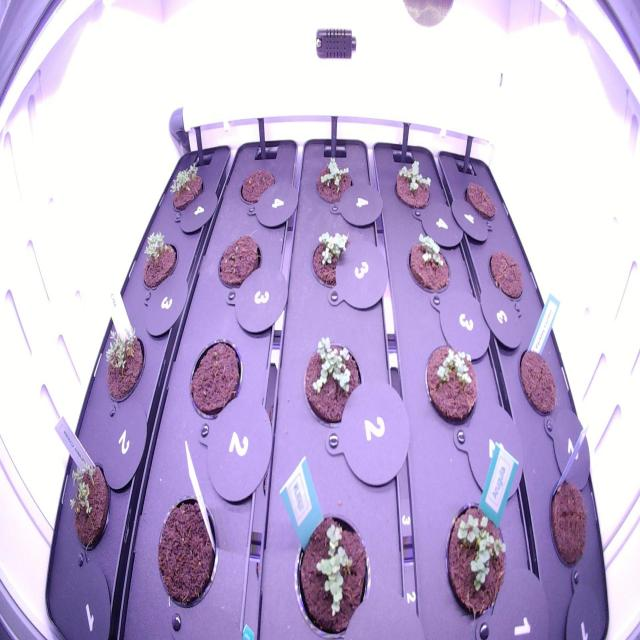germination: (286, 499, 375, 634), (440, 482, 511, 631), (297, 326, 368, 441), (61, 445, 116, 563), (421, 336, 480, 438), (101, 310, 150, 414), (304, 218, 358, 300), (402, 222, 454, 303), (137, 221, 182, 298), (308, 148, 359, 214), (388, 152, 437, 220), (165, 153, 209, 220)
pod: (148, 485, 222, 620), (182, 328, 248, 431), (543, 469, 593, 577), (512, 336, 564, 427), (211, 225, 268, 303), (482, 236, 528, 310), (232, 160, 280, 218), (456, 170, 499, 229)
